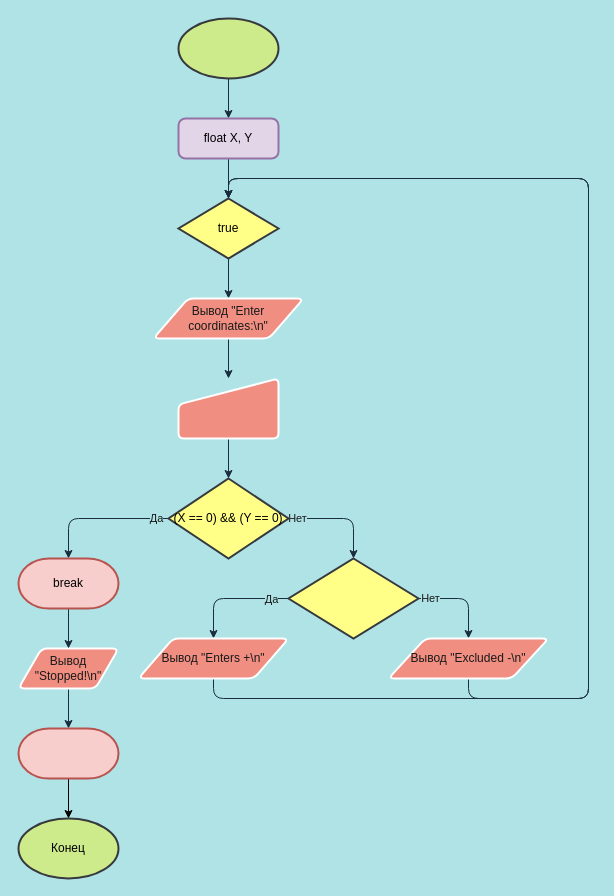
Some shapes in this 614 by 896 pixel diagram are drawn without their labels. Here are the shapes that lost their labels. From the top down, the centre of each, then its label:
At point (228, 48): "Начало".
At point (228, 408): "Ввод X и Y".
At point (353, 598): "(X >= 2) && (X <= 6) && (Y <= X)".
At point (68, 753): "return 0".
